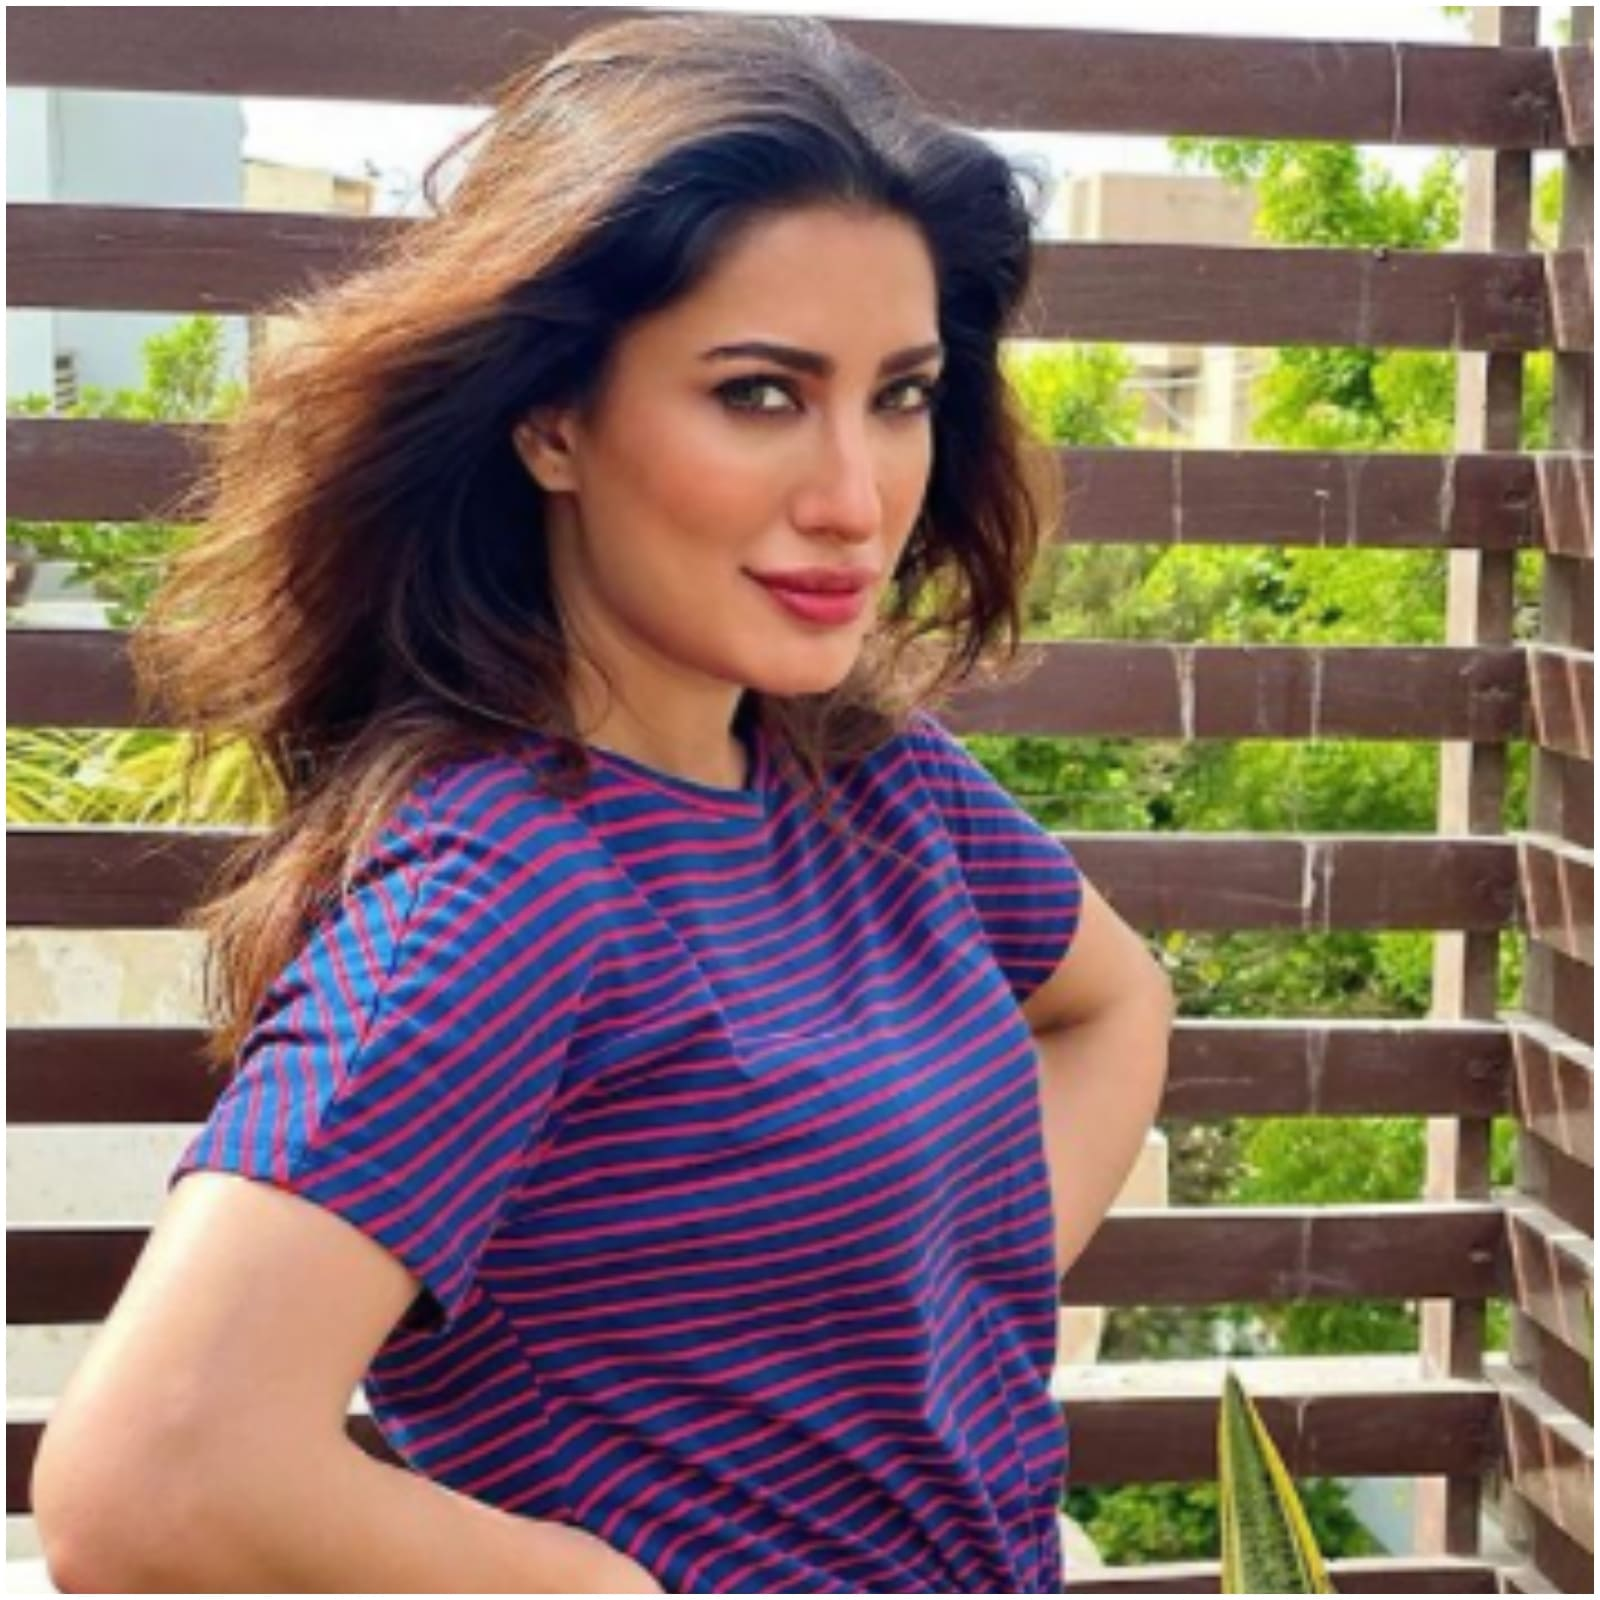NoMask: (655, 312, 938, 702)
